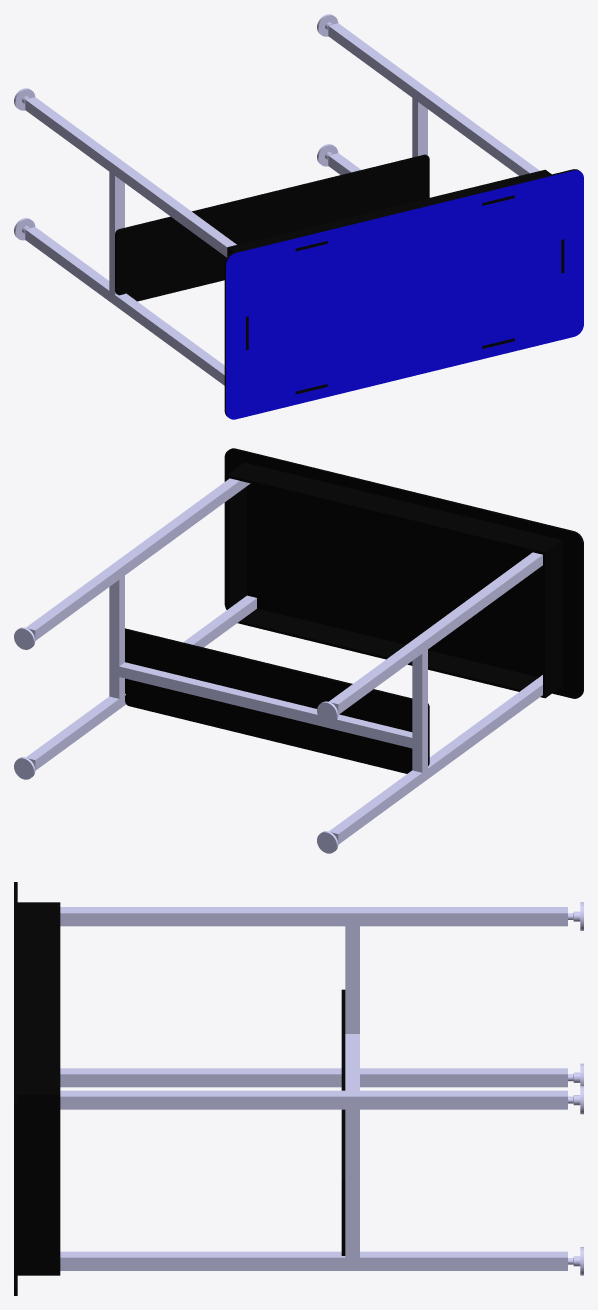
3 views of the same model, one above another, from view 1: azimuth 30°, elevation 25°; view 2: azimuth 150°, elevation 25°; view 3: azimuth 270°, elevation 25° (orthographic). The views are drawn at different scales.
Parts seen in each view (by area): view 1: entity_12, entity_31, entity_23, entity_44, entity_38, entity_6, entity_10, entity_51, entity_27; view 2: entity_10, entity_31, entity_6, entity_16, entity_47, entity_44, entity_23, entity_38, entity_41, entity_19, entity_35, entity_51 (+1 smaller); view 3: entity_23, entity_44, entity_41, entity_38, entity_6, entity_35, entity_27, entity_10, entity_51, entity_31, entity_47.
Boxes of the visible parts, x1,y1,x2,y2 form: entity_12: (226,170,583,419); entity_31: (115,154,429,301); entity_23: (25,97,236,257); entity_44: (328,23,539,175); entity_38: (25,227,224,385); entity_6: (227,169,551,252); entity_10: (224,169,579,416); entity_51: (109,172,124,294); entity_27: (412,98,427,157); entity_10: (224,448,583,698); entity_31: (125,628,429,773); entity_6: (227,462,562,555); entity_16: (237,608,562,698); entity_47: (119,662,412,748); entity_44: (26,478,250,640); entity_23: (329,552,542,714); entity_38: (329,675,542,844); entity_41: (26,595,256,770); entity_19: (543,543,562,695); entity_35: (227,478,246,609); entity_51: (412,649,427,772); entity_23: (60,907,567,926); entity_44: (60,1090,567,1109); entity_41: (60,1251,567,1270); entity_38: (60,1068,567,1087); entity_6: (17,902,60,1098); entity_35: (17,1098,60,1272); entity_27: (345,1109,359,1257); entity_10: (14,882,17,1295); entity_51: (345,926,359,1033); entity_31: (341,989,345,1255); entity_47: (345,1034,359,1090).
Bounding box in the file's own units: 900 × 400 × 1000.
